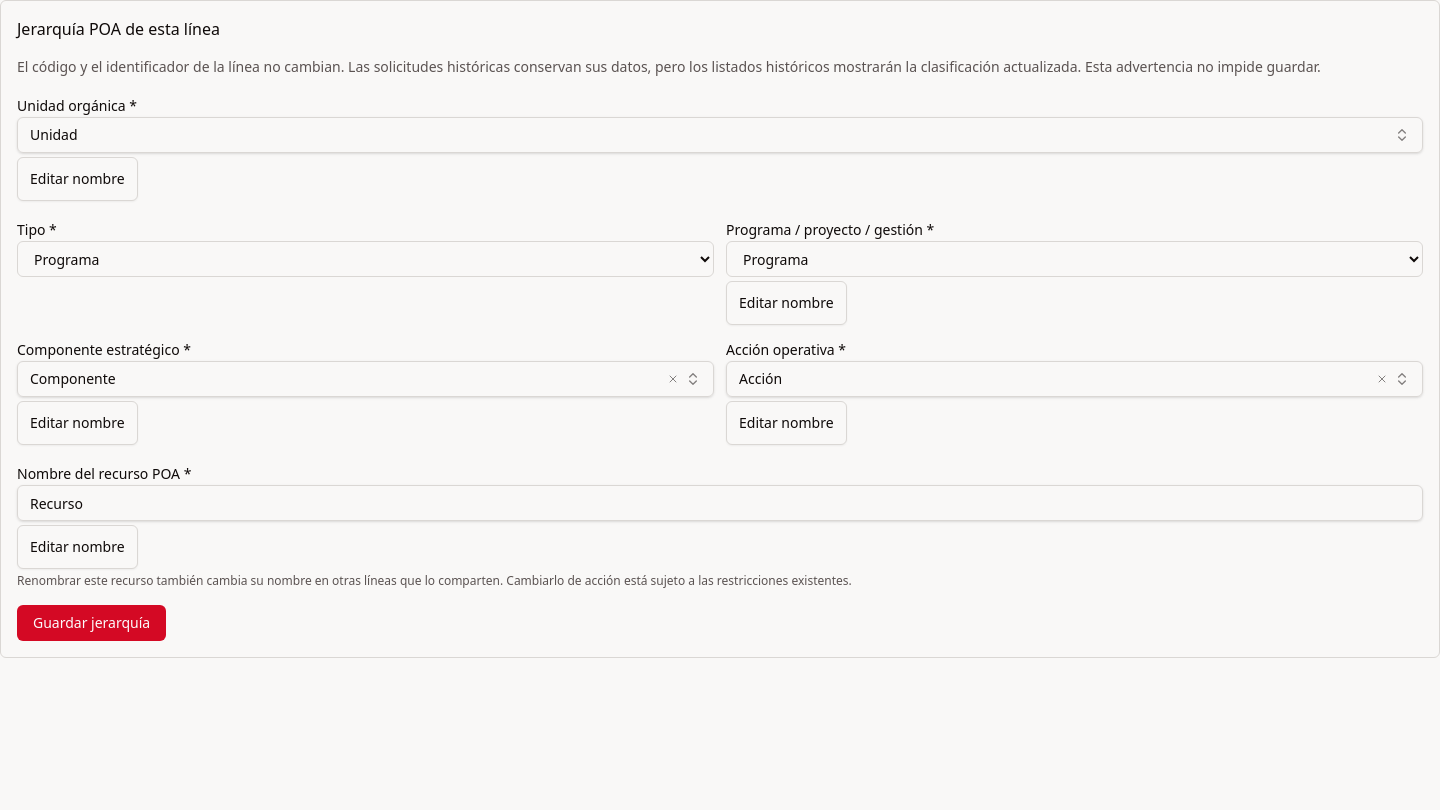
Test: renombrar catálogo desde la jerarquía › PATCH de Programa usa solo name y conserva ID
Click the button "Editar nombre" below "Programa / proyecto / gestión *" at x=786, y=303, box [726,281,847,325]
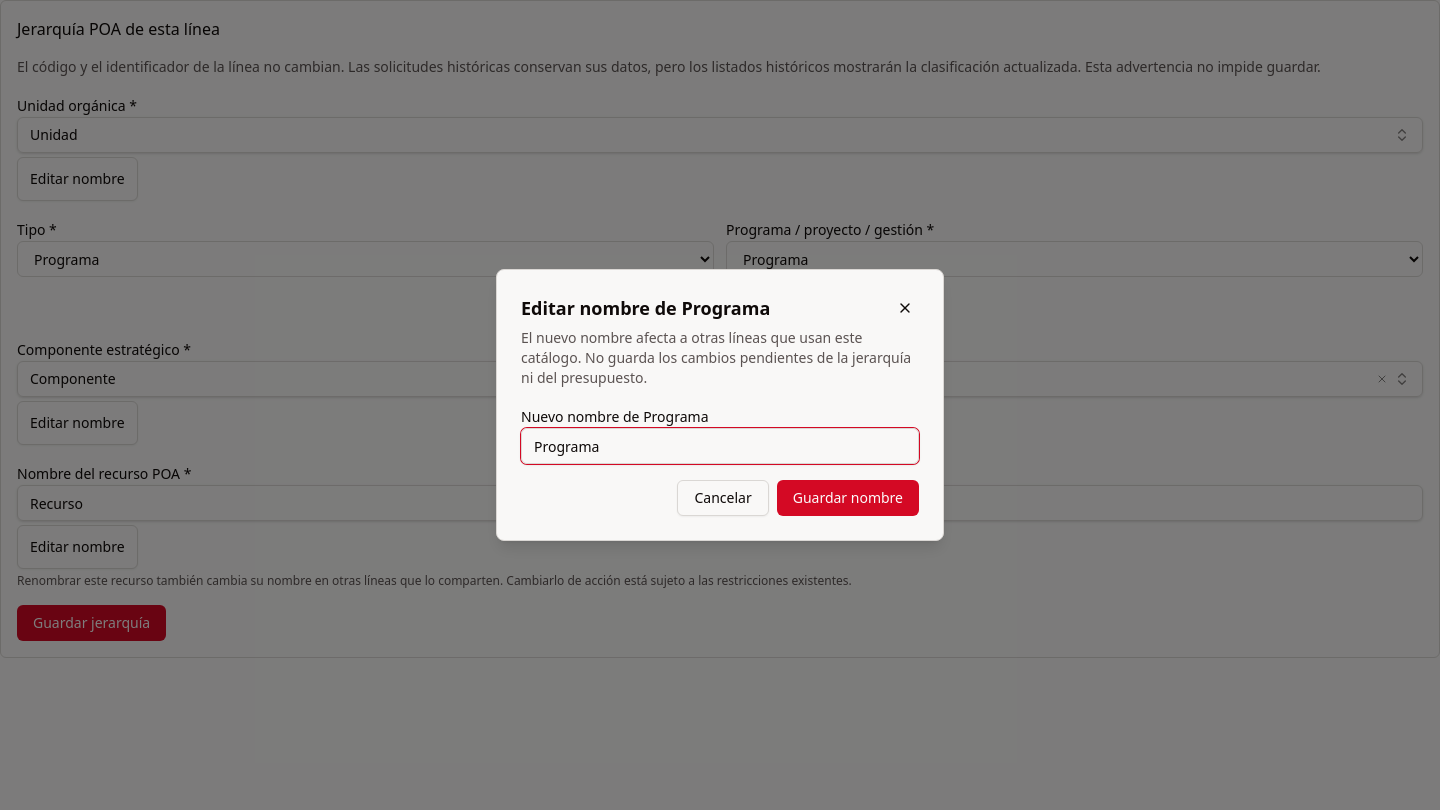
Replace the text in the field labelled "Nuevo nombre de Programa" with "  Nuevo  " at x=720, y=446, box [521,428,919,464]
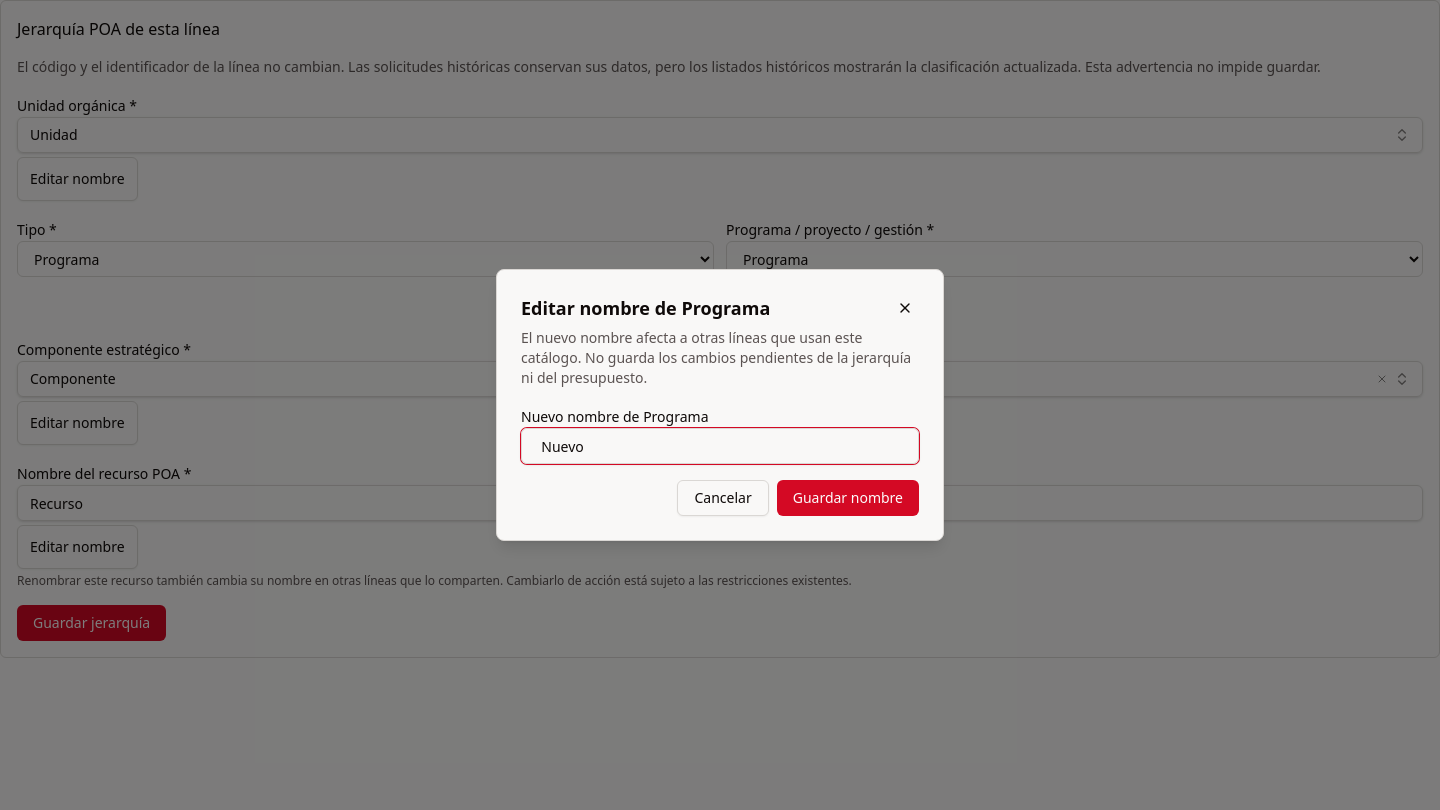
Click the button "Guardar nombre" at x=848, y=498, box [777,480,919,516]
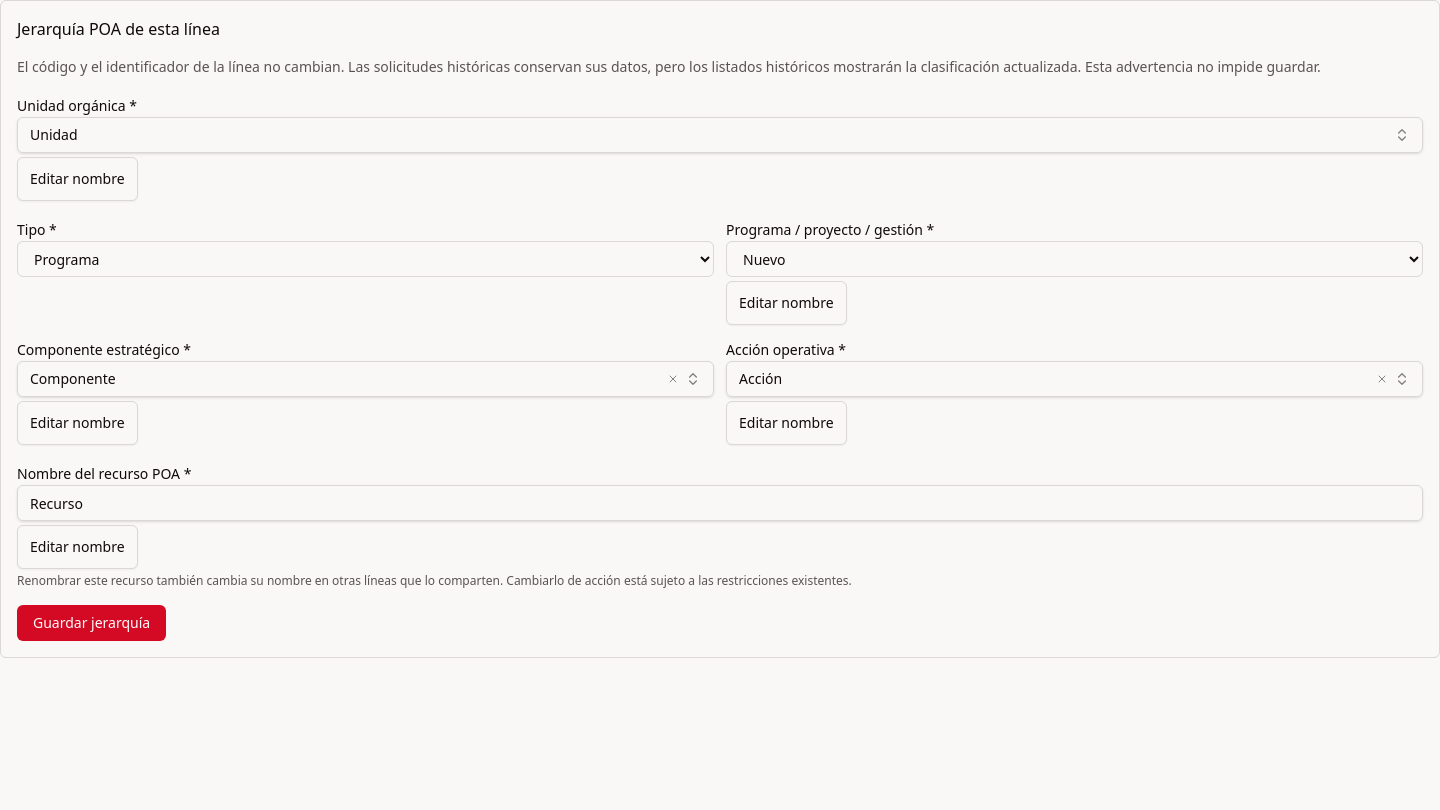
Expected: the field labelled "Nombre del recurso POA *" holds "Recurso", [17,485,1423,521]
Result: the dropdown labelled "Programa / proyecto / gestión *" shows "Nuevo" at [726,241,1423,277]
